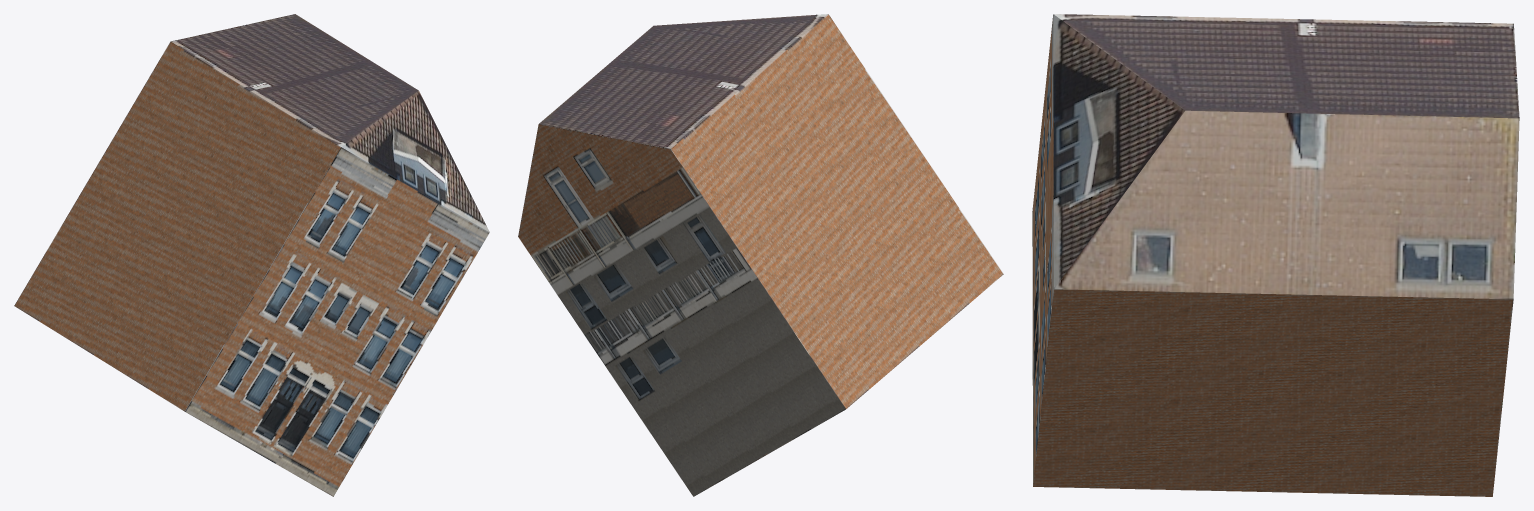
The picture shows the model from 3 angles, left to right: view 1: azimuth 30°, elevation 25°; view 2: azimuth 150°, elevation 25°; view 3: azimuth 270°, elevation 25°; orthographic projection. The views are drawn at different scales.
Visible parts, largest first — view 1: BAG_0599100000760394; view 2: BAG_0599100000760394 (×2); view 3: BAG_0599100000760394 (×2).
Part boxes in pixels (x1,y1,x2,y2): BAG_0599100000760394: [14, 14, 489, 496]; BAG_0599100000760394 (×2): [518, 14, 1003, 496]; BAG_0599100000760394 (×2): [1032, 14, 1519, 496].
Bounding box in the file's own units: 13.42 × 14.07 × 12.44.
Materials: 1 (1 with a texture image).
